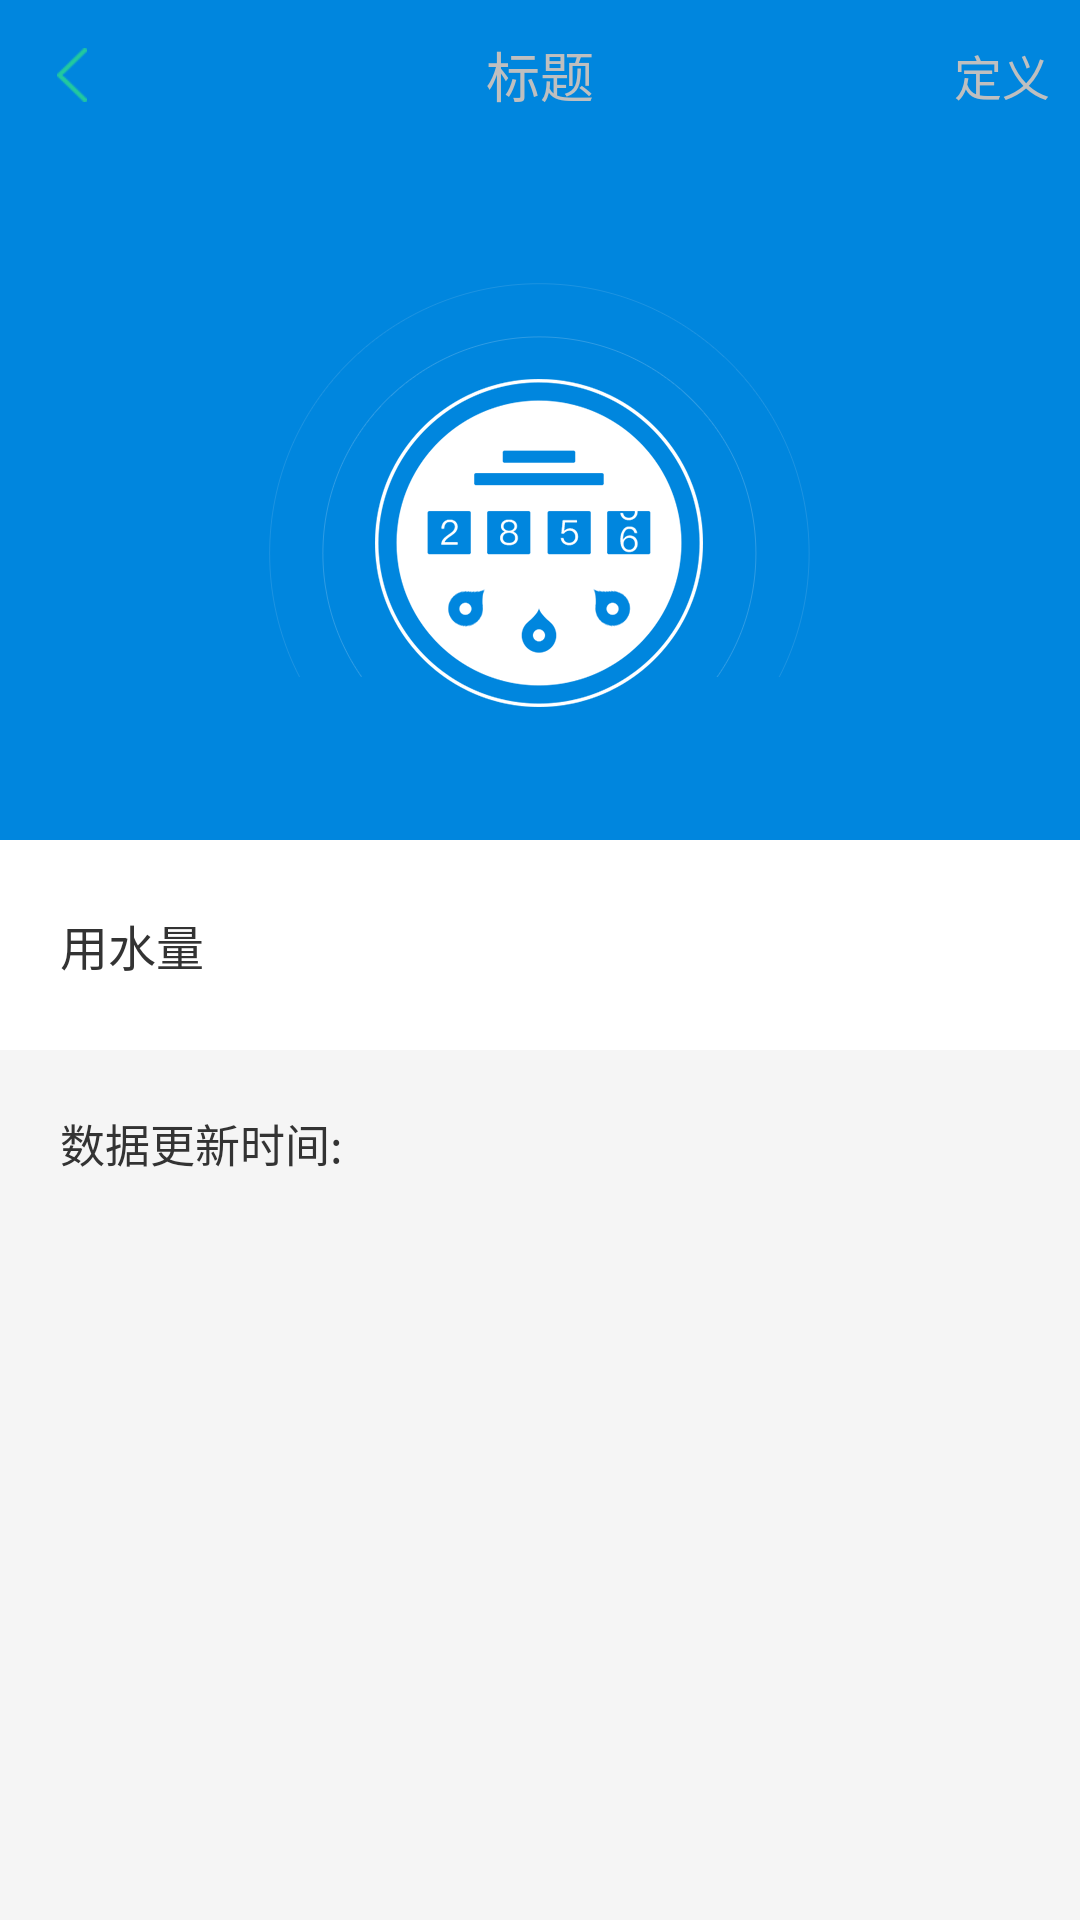

Where icons sit on this 1080 x 1920 app screen, as (x1, y1, x2, y2):
return: (57, 48, 87, 102)
